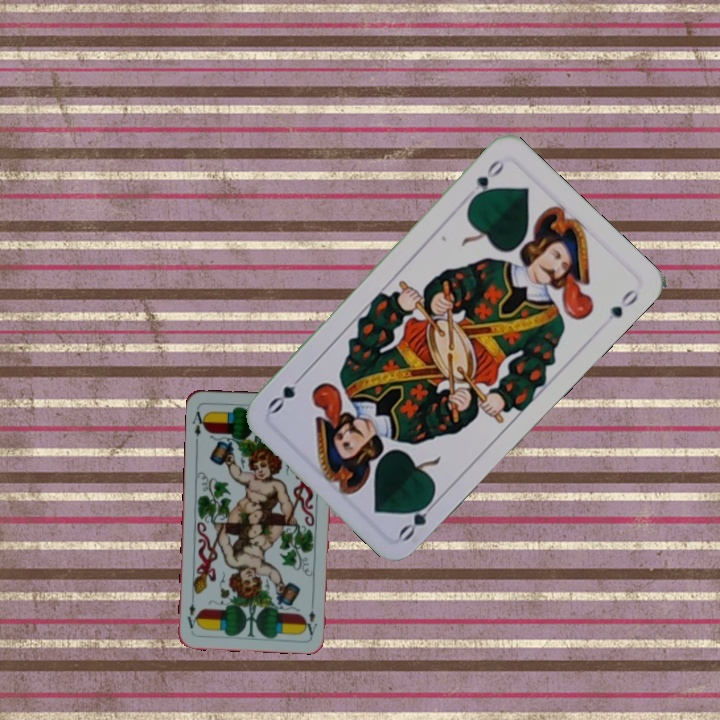EA: (188, 404, 208, 439), (302, 607, 320, 638)
GO: (394, 491, 442, 544), (466, 155, 507, 206)
